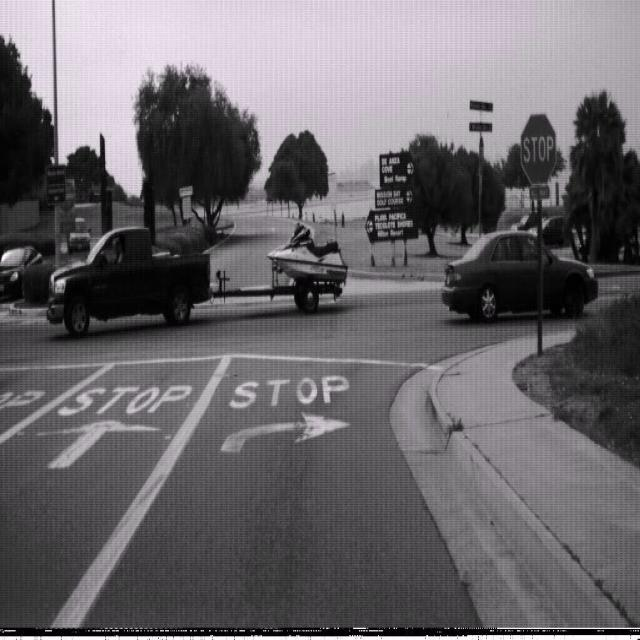stop_sign: (519, 111, 557, 188)
